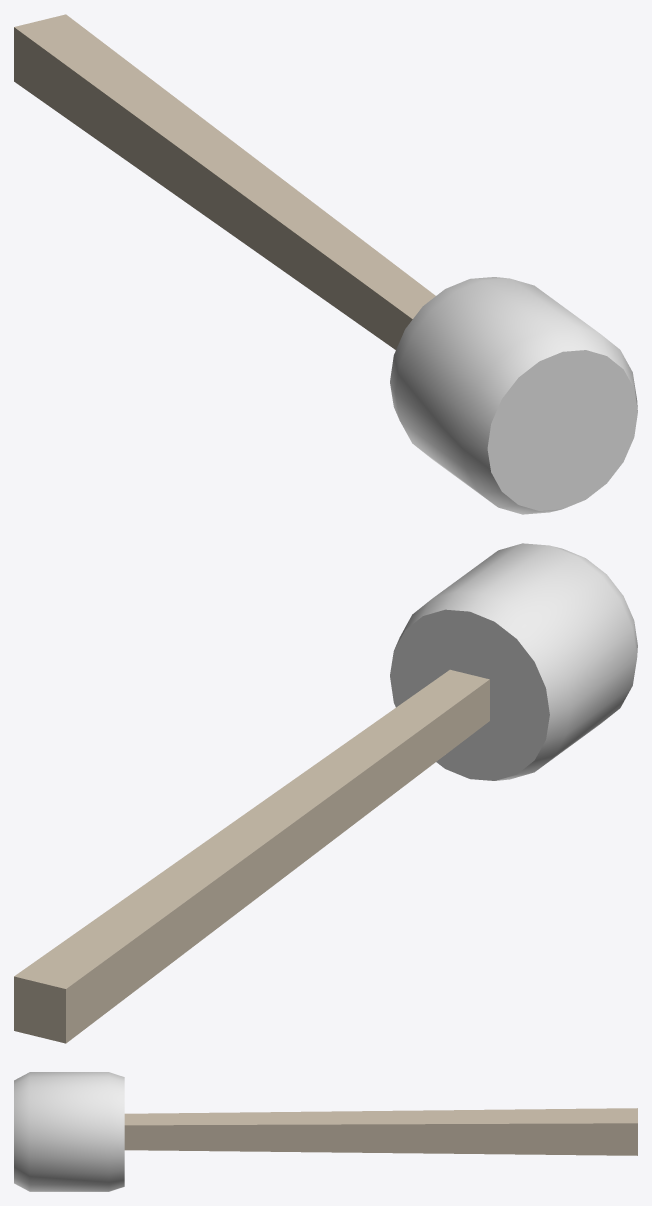
Rendered from Tambores fbx proyecto Baqueta.fbx.
3 views of the same model, one above another, from view 1: azimuth 30°, elevation 25°; view 2: azimuth 150°, elevation 25°; view 3: azimuth 270°, elevation 25° (orthographic). The views are drawn at different scales.
Visible parts, largest first — view 1: simpleSetPercussion1:pCylinder75, simpleSetPercussion1:pCube37; view 2: simpleSetPercussion1:pCube37, simpleSetPercussion1:pCylinder75; view 3: simpleSetPercussion1:pCube37, simpleSetPercussion1:pCylinder75.
Part boxes in pixels (x1=…): simpleSetPercussion1:pCylinder75: x1=390, y1=277, x2=637, y2=514; simpleSetPercussion1:pCube37: x1=14, y1=14, x2=435, y2=349; simpleSetPercussion1:pCube37: x1=14, y1=669, x2=489, y2=1043; simpleSetPercussion1:pCylinder75: x1=390, y1=543, x2=637, y2=780; simpleSetPercussion1:pCube37: x1=124, y1=1108, x2=637, y2=1155; simpleSetPercussion1:pCylinder75: x1=14, y1=1072, x2=124, y2=1191.
Bounding box in the file's own units: 0.8511 × 0.8511 × 4.4.
